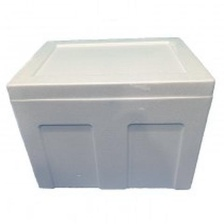foam_box: (2, 32, 220, 193)
